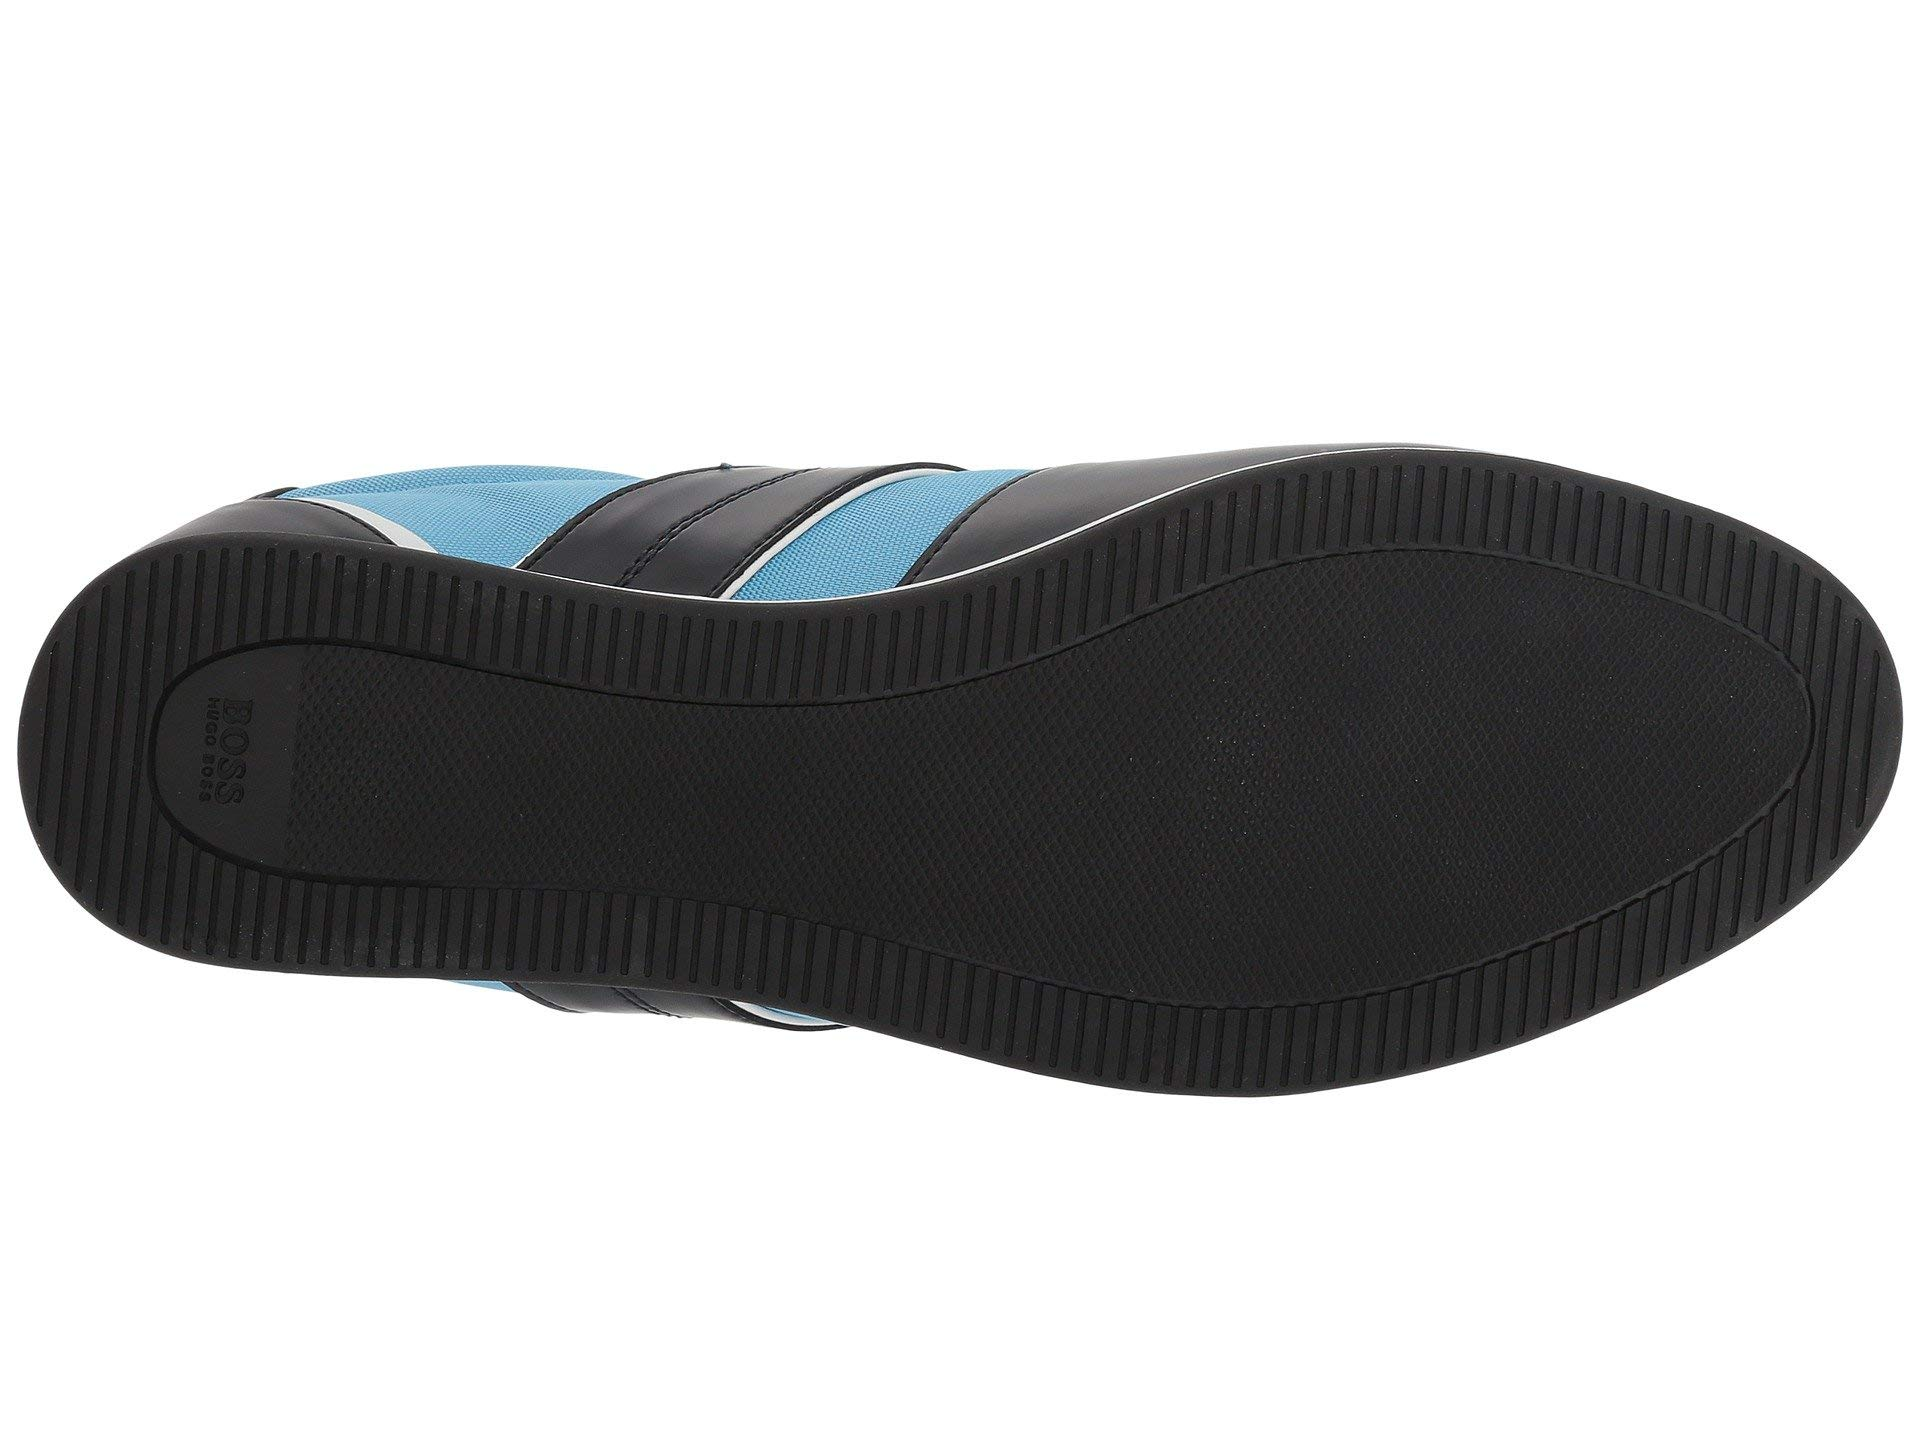circle: (127, 634, 290, 827)
line: (1504, 498, 1894, 986), (949, 936, 1181, 1137), (127, 634, 290, 827), (689, 610, 785, 729)
text: (127, 634, 290, 827)
